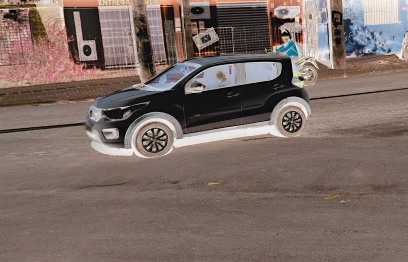car: (84, 56, 321, 160)
